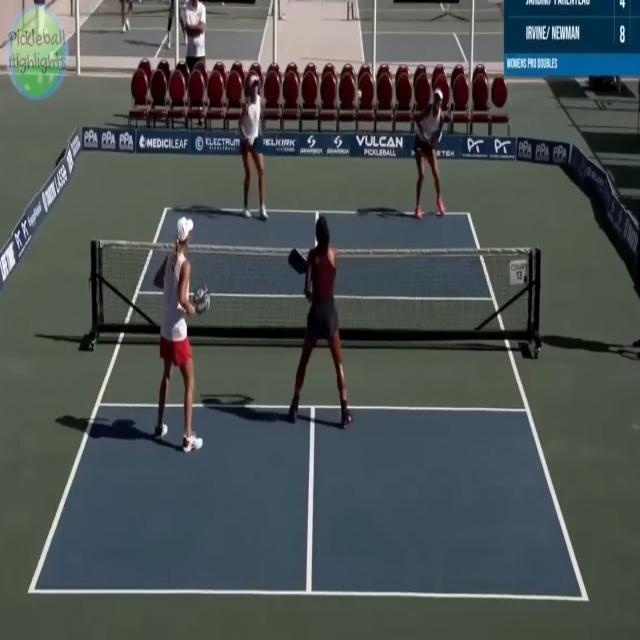Court: (31, 206, 589, 597)
